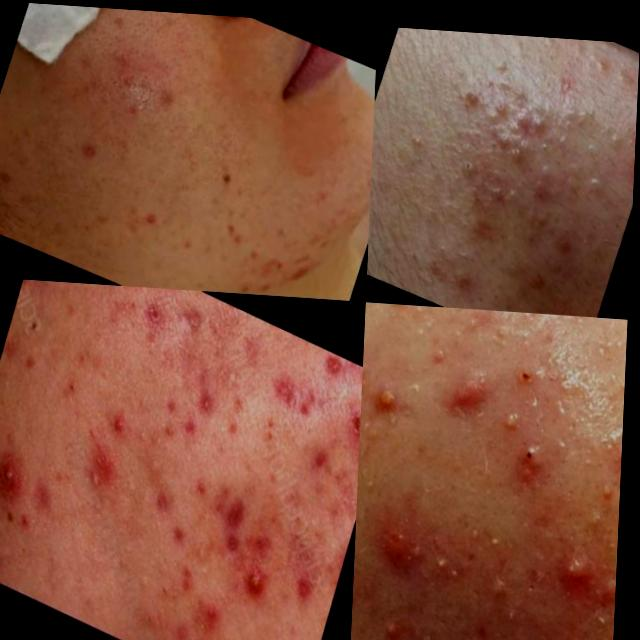8: (357, 452, 459, 587), (207, 471, 269, 564), (590, 561, 622, 627), (311, 341, 354, 387), (595, 429, 626, 490), (522, 249, 553, 291), (106, 405, 138, 442), (193, 593, 226, 625), (458, 76, 487, 108), (554, 222, 585, 250), (79, 281, 120, 297), (454, 260, 476, 289), (198, 639, 224, 640)
9: (539, 519, 611, 608), (363, 352, 421, 437), (498, 422, 561, 497), (484, 383, 539, 449), (238, 555, 284, 607), (0, 450, 25, 491), (549, 636, 588, 640)
blackheads: (424, 334, 504, 444), (73, 426, 142, 518), (357, 514, 441, 585), (259, 359, 323, 422), (324, 388, 364, 485), (283, 236, 322, 288), (66, 128, 107, 170), (252, 247, 288, 291), (216, 211, 254, 251), (135, 196, 170, 236), (468, 204, 503, 237)
dark spot: (482, 115, 534, 162), (447, 139, 482, 176), (528, 148, 554, 189), (504, 96, 531, 130), (579, 159, 607, 190), (153, 48, 179, 79), (152, 575, 177, 604), (532, 125, 556, 152), (487, 43, 511, 70), (481, 173, 504, 200), (590, 47, 612, 70), (564, 146, 583, 169), (494, 91, 509, 109)
